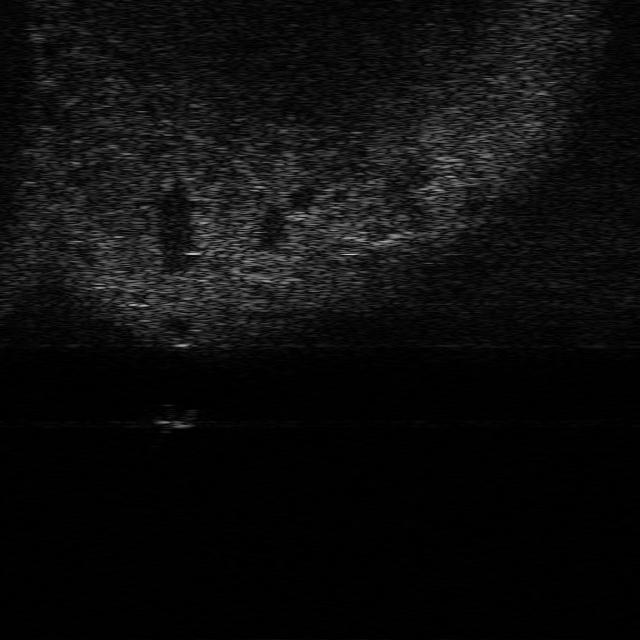ball: (236, 309, 282, 338)
cube: (151, 404, 199, 431)
